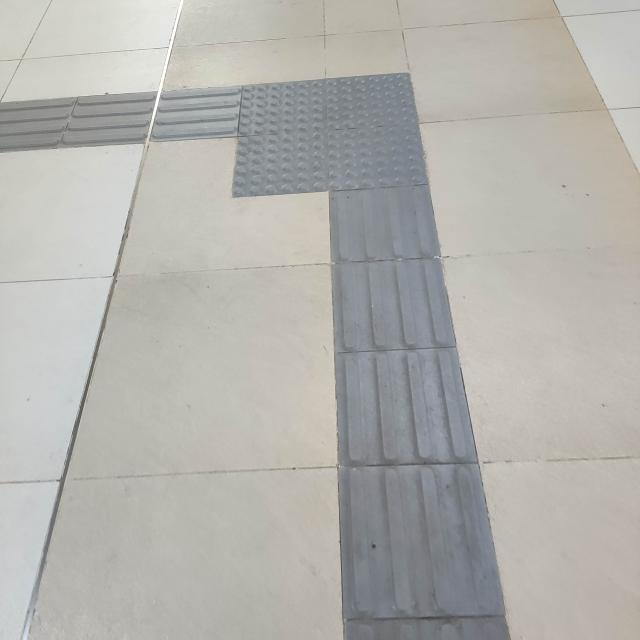kiri: (120, 60, 475, 234)
